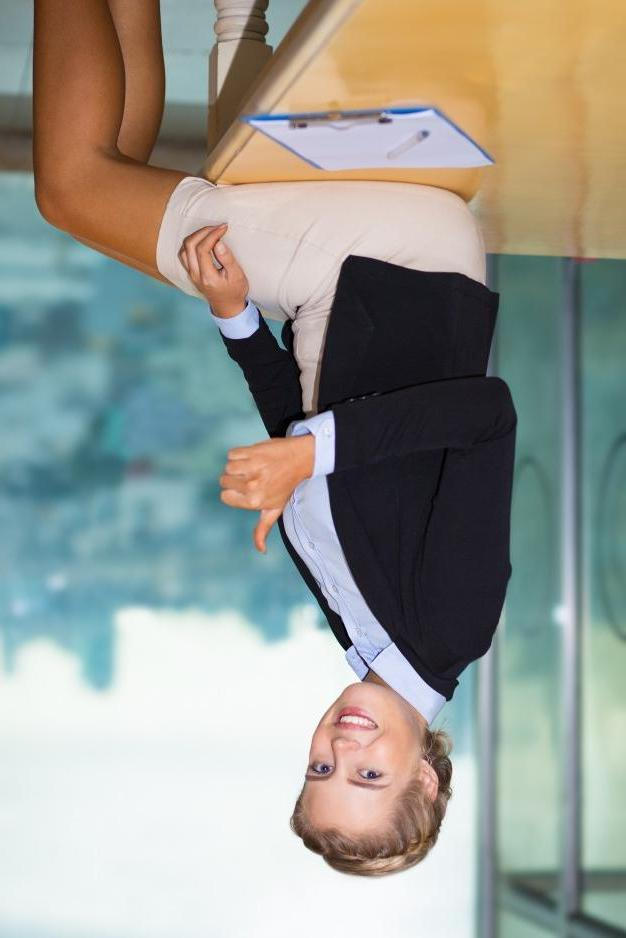thumbsdown: (218, 445, 274, 555)
